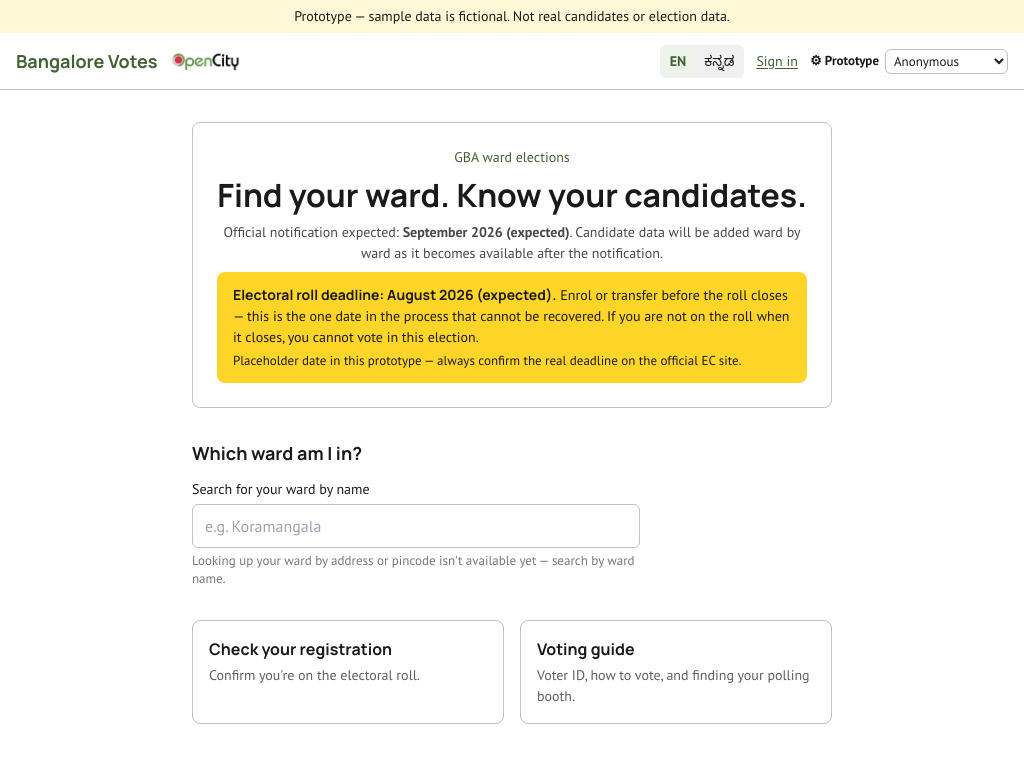
Test case: typing a query with no matching ward shows an honest no-results message
This screenshot has width=1024, height=768.
In the field labelled "Search for your ward by name": (416, 526) x1=192 y1=504 x2=640 y2=548, type "zzznotaward"
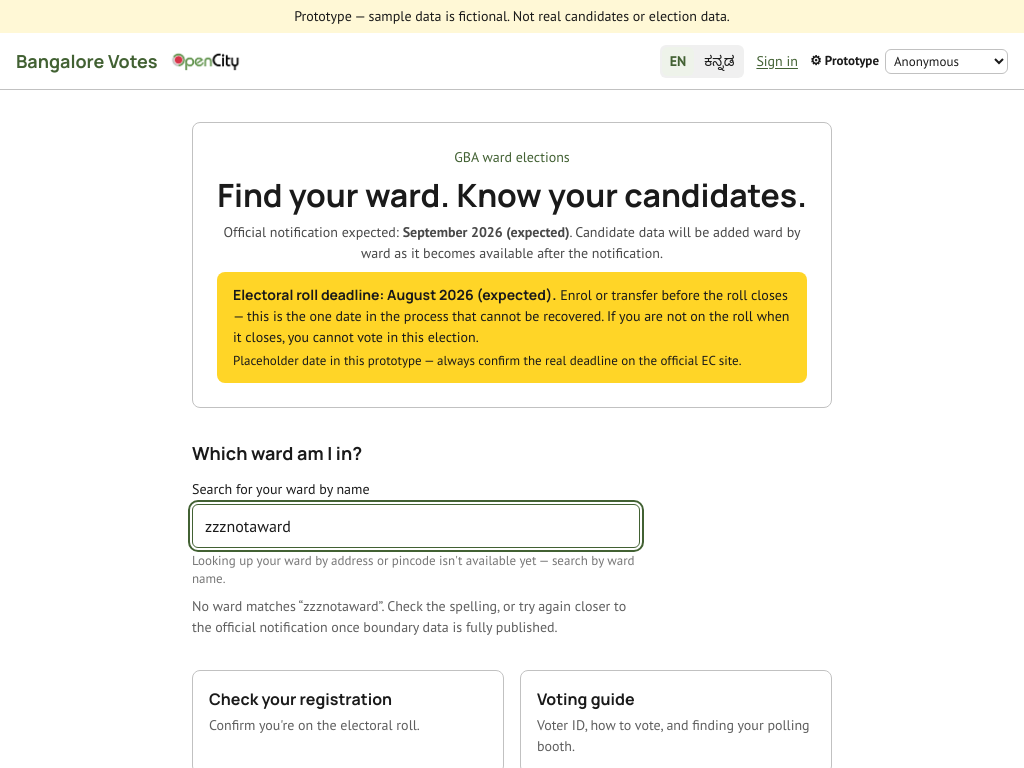
Now the text "No ward matches" is shown, box x1=192 y1=597 x2=303 y2=615
